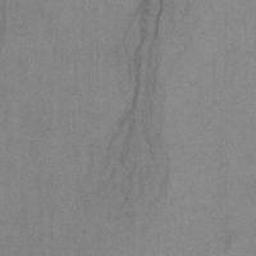Water spot: (79, 0, 172, 238)
